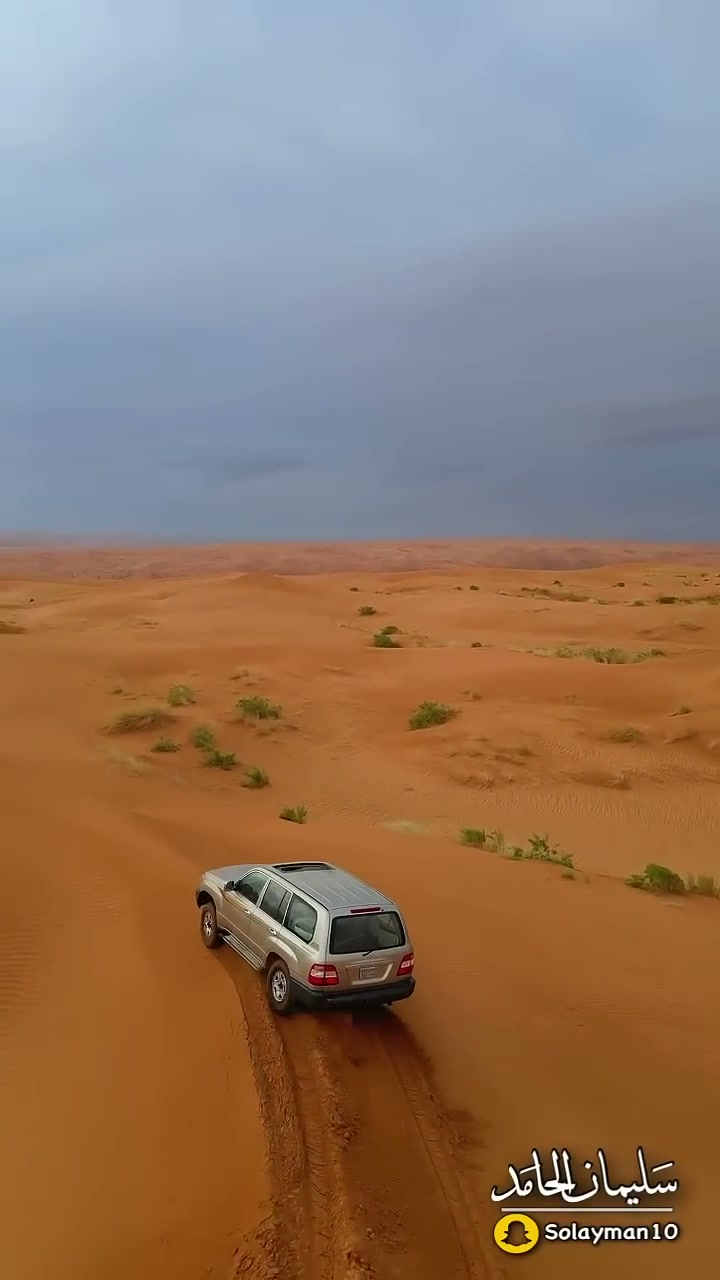vehicle_track: (224, 953, 500, 1279), (224, 956, 367, 1279)
